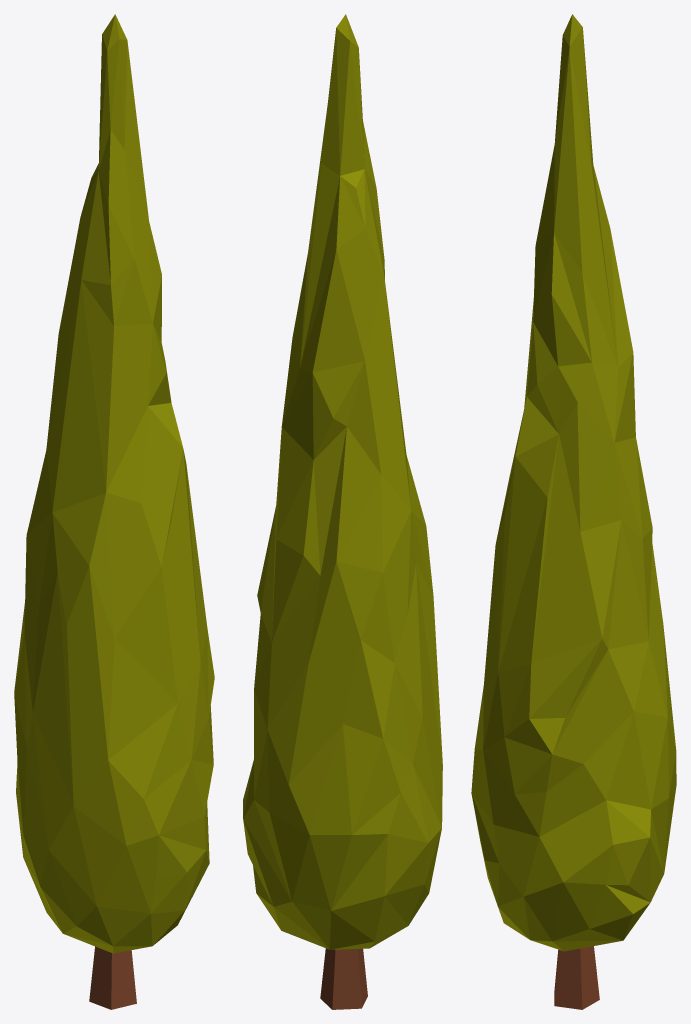
File: village_pack_tree_6.glb
3 renders of one model, left to right at view 1: azimuth 30°, elevation 25°; view 2: azimuth 150°, elevation 25°; view 3: azimuth 270°, elevation 25°, orthographic.
Parts seen in each view (by area): view 1: tree 6_leaf 1_0; view 2: tree 6_leaf 1_0; view 3: tree 6_leaf 1_0.
Boxes of the visible parts, x1,y1,x2,y2 form: tree 6_leaf 1_0: [14, 14, 214, 1009]; tree 6_leaf 1_0: [243, 14, 442, 1009]; tree 6_leaf 1_0: [471, 14, 676, 1009].
Bounding box in the file's own units: 3.42 × 18.69 × 3.52.
